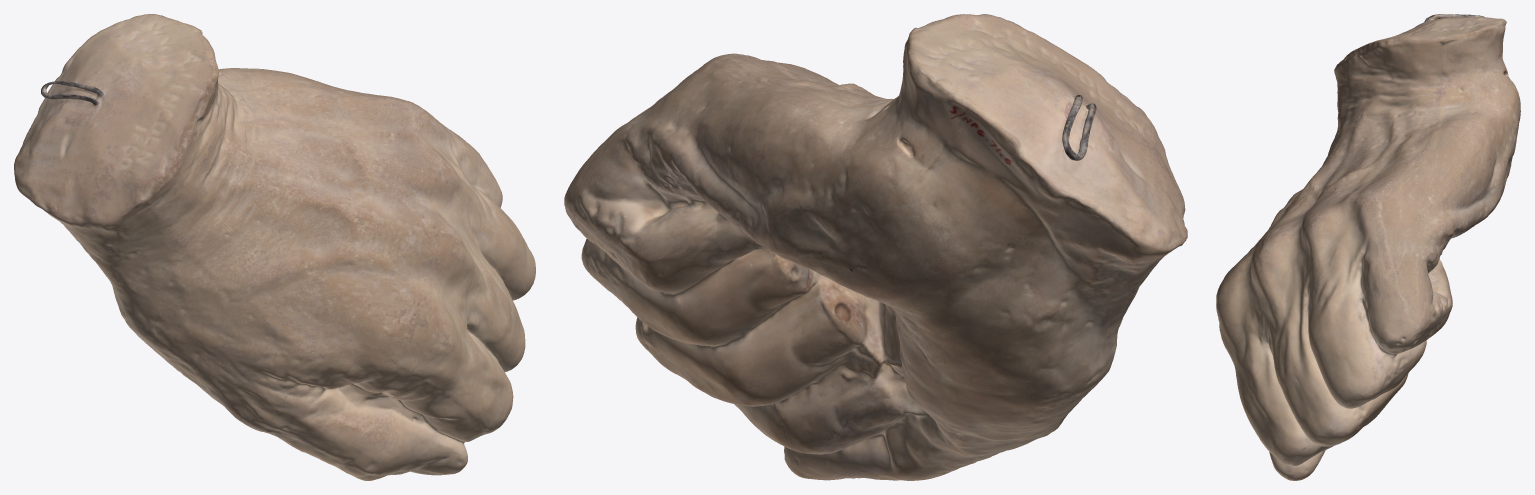
Rendered from npg_71_6_left-hires_unwrapped-150k-4096-high.glb.
3 renders of one model, left to right at view 1: azimuth 30°, elevation 25°; view 2: azimuth 150°, elevation 25°; view 3: azimuth 270°, elevation 25°, orthographic. The views are drawn at different scales.
Bounding box in the file's own units: 164 × 143 × 106.
1 material, 1 textured.
